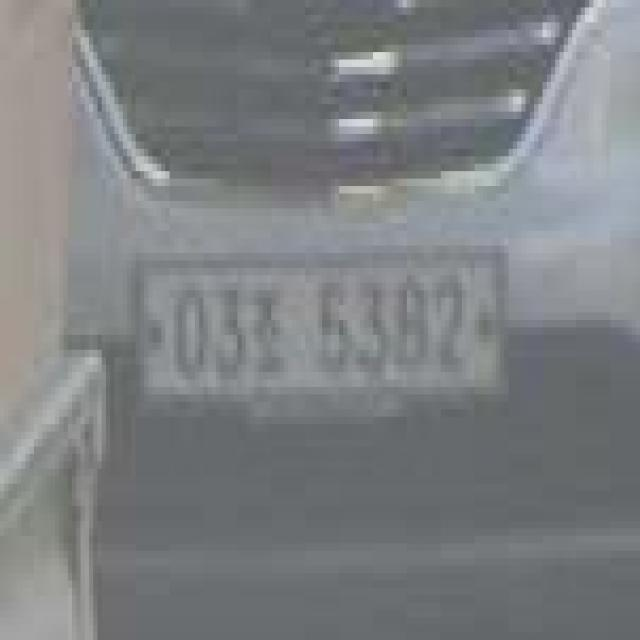illegal_plate: (132, 247, 507, 418)
